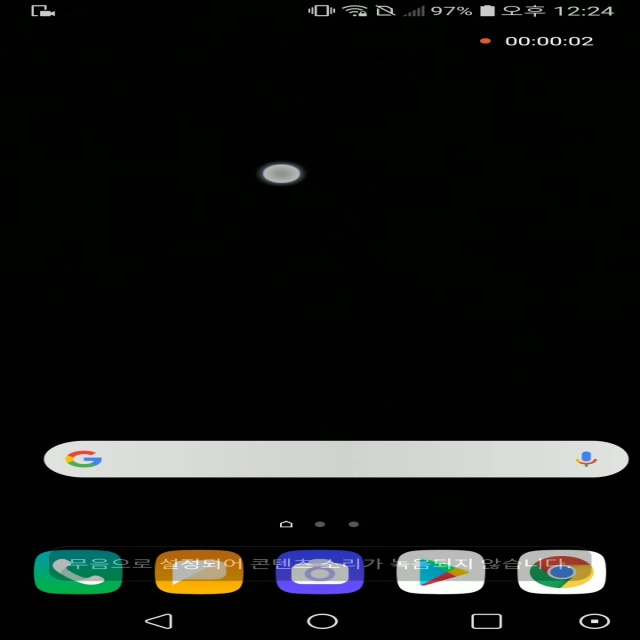Cursor: (259, 164, 304, 186)
